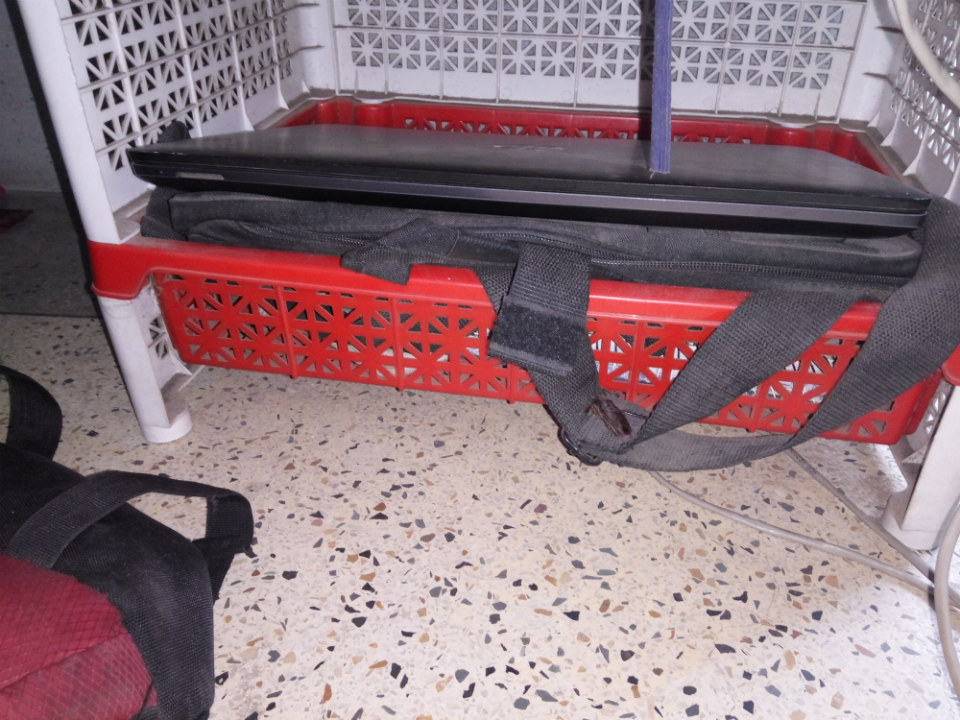cockroach: (586, 388, 644, 443)
